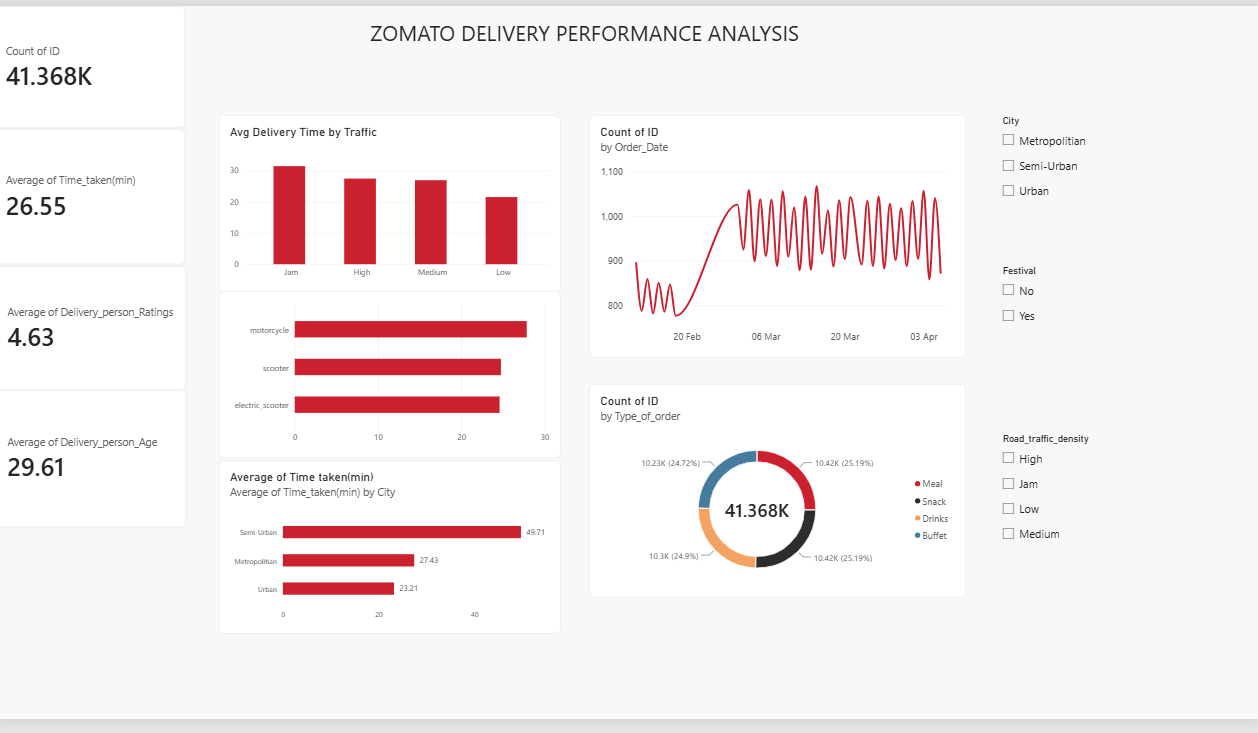

The page's visual inventory and layout, read from the dashboard file:
{"tool":"powerbi","page":{"name":"dashboard","canvas":[1920,1080],"ordinal":0},"visuals":[{"type":"cardVisual","fields":{"Data":["CountNonNull(train (2).ID)"]},"box":[0,0,290,186],"z":1000},{"type":"cardVisual","fields":{"Data":["Avg(train (2).Time_taken(min))"]},"box":[0,186,290,206],"z":1001},{"type":"cardVisual","fields":{"Data":["Avg(train (2).Delivery_person_Ratings)"]},"box":[2,392,290,190],"z":1002},{"type":"cardVisual","fields":{"Data":["Avg(train (2).Delivery_person_Age)"]},"box":[2,582,290,208],"z":1003},{"type":"barChart","title":"Average of Time taken(min)","fields":{"Category":["train (2).City"],"Y":["Avg(train (2).Time_taken(min))"]},"box":[340,687.5,517.5,262.5],"z":1004},{"type":"columnChart","title":"Avg Delivery Time by Traffic","fields":{"Category":["train (2).Road_traffic_density"],"Y":["Avg(train (2).Time_taken(min))"]},"box":[340,165,517.5,267.5],"z":1005},{"type":"lineChart","fields":{"Category":["train (2).Order_Date"],"Y":["CountNonNull(train (2).ID)"]},"box":[902.5,165,570,366.7],"z":1006},{"type":"slicer","fields":{"Values":["train (2).City"]},"box":[1520,165,310,182.5],"z":1007},{"type":"slicer","fields":{"Values":["train (2).Road_traffic_density"]},"box":[1520,647.5,310,217.5],"z":1008},{"type":"slicer","fields":{"Values":["train (2).Festival"]},"box":[1520,392.5,310,210],"z":1009},{"type":"donutChart","fields":{"Category":["train (2).Type_of_order"],"Y":["CountNonNull(train (2).ID)"]},"box":[902.5,572.5,570,322.5],"z":1010},{"type":"textbox","box":[315,0,1157.5,130],"z":1011},{"type":"barChart","fields":{"Category":["train (2).Type_of_vehicle"],"Y":["Avg(train (2).Time_taken(min))"]},"box":[340,432.5,517.5,252.5],"z":1013}]}

Visuals, with their boxes on the page's 1920x1080 design canvas (x1, y1, x2, y2). These are canvas units, not pixel positions in the 1258x733 screenshot, which may show the page scaled, cropped or inside an application window:
cardVisual - CountNonNull(train (2).ID): detection(0, 0, 290, 186)
cardVisual - Avg(train (2).Time_taken(min)): detection(0, 186, 290, 392)
cardVisual - Avg(train (2).Delivery_person_Ratings): detection(2, 392, 292, 582)
cardVisual - Avg(train (2).Delivery_person_Age): detection(2, 582, 292, 790)
"Average of Time taken(min)" barChart: detection(340, 688, 858, 950)
"Avg Delivery Time by Traffic" columnChart: detection(340, 165, 858, 432)
lineChart - train (2).Order_Date x CountNonNull(train (2).ID): detection(902, 165, 1472, 532)
slicer - train (2).City: detection(1520, 165, 1830, 348)
slicer - train (2).Road_traffic_density: detection(1520, 648, 1830, 865)
slicer - train (2).Festival: detection(1520, 392, 1830, 602)
donutChart - train (2).Type_of_order x CountNonNull(train (2).ID): detection(902, 572, 1472, 895)
textbox: detection(315, 0, 1472, 130)
barChart - train (2).Type_of_vehicle x Avg(train (2).Time_taken(min)): detection(340, 432, 858, 685)
